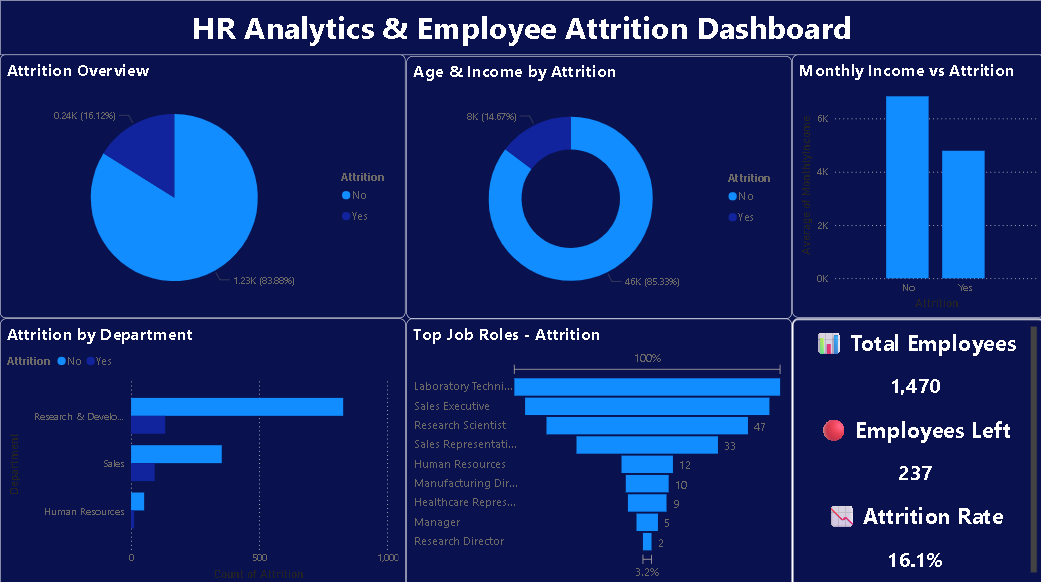

The dashboard page shown, as its layout file describes it:
{"tool":"powerbi","page":{"name":"Page 1","canvas":[1280,720],"ordinal":0},"visuals":[{"type":"pieChart","title":"Attrition Overview","fields":{"Category":["hr_clean_data.Attrition"],"Y":["CountNonNull(hr_clean_data.Attrition)"]},"box":[0,66.7,496.7,323.3],"z":0},{"type":"clusteredBarChart","title":"Attrition by Department","fields":{"Category":["hr_clean_data.Department"],"Series":["hr_clean_data.Attrition"],"Y":["CountNonNull(hr_clean_data.Attrition)"]},"box":[0,390,497.8,330],"z":1000},{"type":"clusteredColumnChart","title":"Monthly Income vs Attrition","fields":{"Category":["hr_clean_data.Attrition"],"Y":["Avg(hr_clean_data.MonthlyIncome)"]},"box":[970,67.5,310,322.5],"z":2000},{"type":"donutChart","title":"Age & Income by Attrition","fields":{"Category":["hr_clean_data.Attrition"],"Y":["Sum(hr_clean_data.Age)"]},"box":[497.8,67.8,472.2,322.2],"z":3000},{"type":"textbox","box":[970,390,310,330],"z":4000},{"type":"funnel","title":"Top Job Roles - Attrition","fields":{"Category":["hr_clean_data.JobRole"],"Y":["Sum(hr_clean_data.Attrition_Binary)"]},"box":[497.8,390,472.2,330],"z":5000},{"type":"textbox","box":[0,0,1280,67.5],"z":6000}]}

Visuals, with their boxes in screenshot pixels (x1, y1, x2, y2), scaled from the page's 1280x720 canvas onto the 1041x582 screenshot:
"Attrition Overview" pieChart: <box>0,54,404,315</box>
"Attrition by Department" clusteredBarChart: <box>0,315,405,581</box>
"Monthly Income vs Attrition" clusteredColumnChart: <box>789,55,1040,315</box>
"Age & Income by Attrition" donutChart: <box>405,55,789,315</box>
textbox: <box>789,315,1040,581</box>
"Top Job Roles - Attrition" funnel: <box>405,315,789,581</box>
textbox: <box>0,0,1040,55</box>
